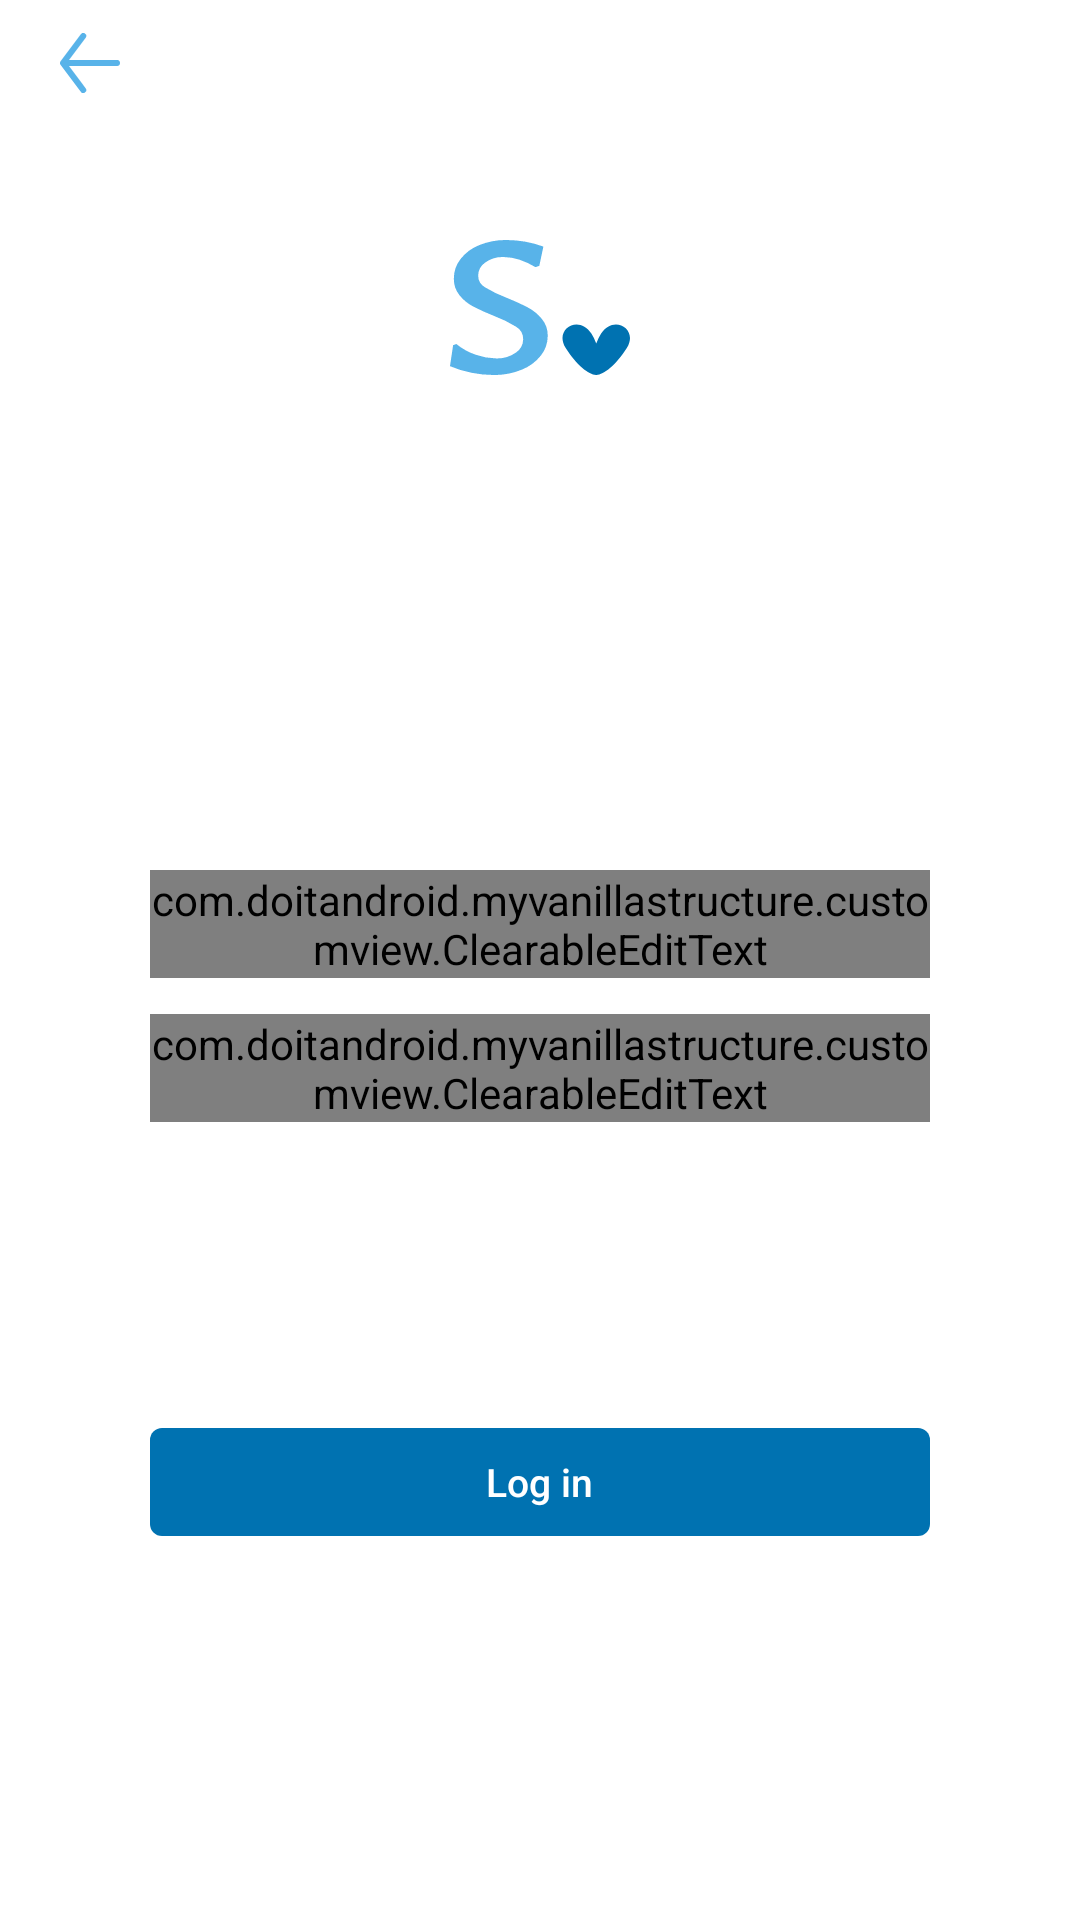

Point at icon controls on the screen. Image size 1080px x 1920px, points as [x,y].
back skyblue: [90,63]
